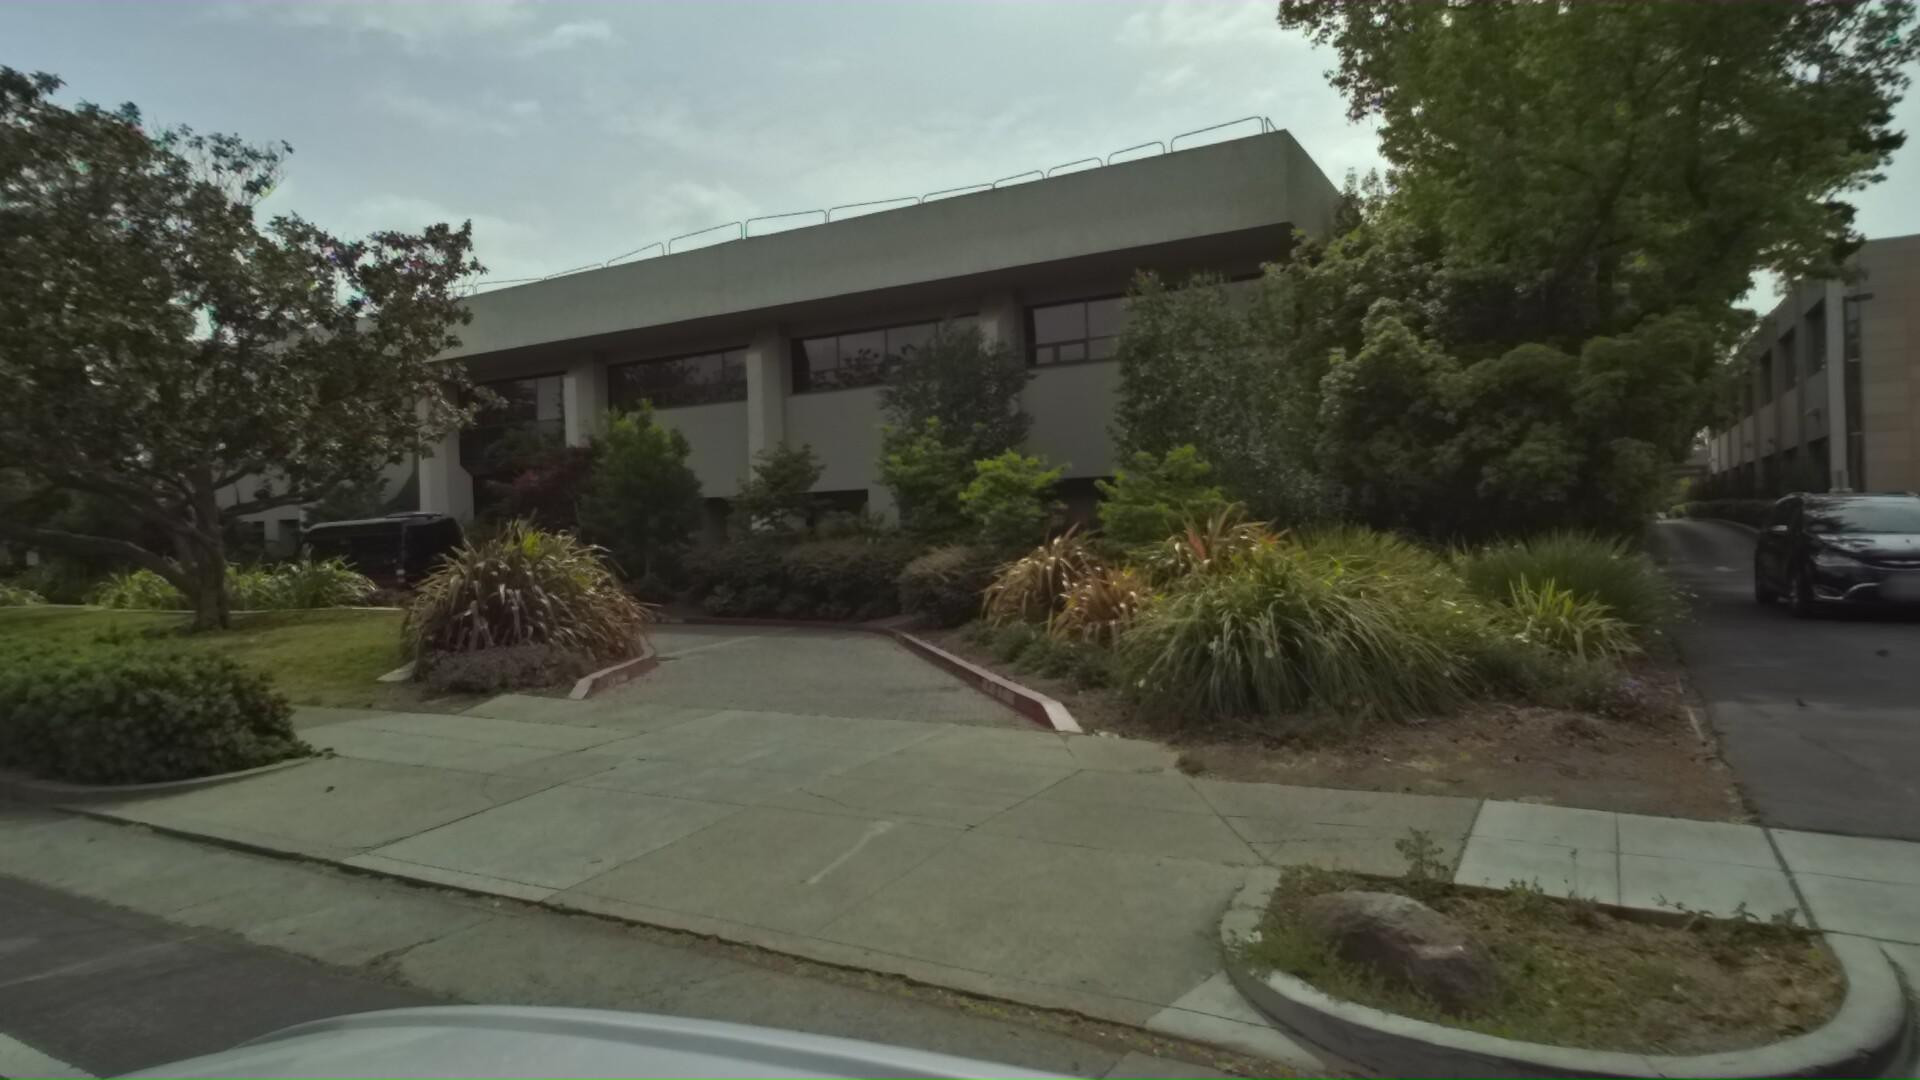car: (266, 502, 487, 613), (1782, 471, 1920, 622)
